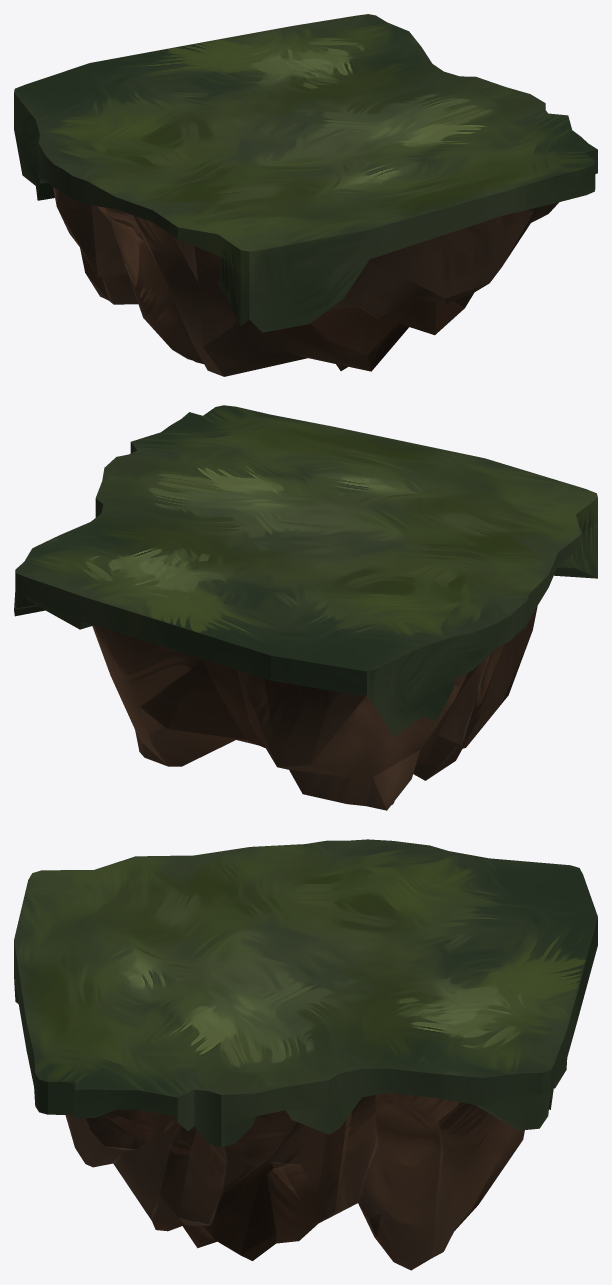
File: wyspa_mala_2.obj
3 renders of one model, top to bottom at view 1: azimuth 30°, elevation 25°; view 2: azimuth 150°, elevation 25°; view 3: azimuth 270°, elevation 25°, orthographic. The views are drawn at different scales.
Parts seen in each view (by area): view 1: Landscape.011; view 2: Landscape.011; view 3: Landscape.011.
Boxes of the visible parts, x1=… form: Landscape.011: x1=14, y1=14, x2=597, y2=376; Landscape.011: x1=14, y1=405, x2=597, y2=810; Landscape.011: x1=14, y1=839, x2=597, y2=1270.
Size of the model in its own units: 28.08 by 14.2 by 26.84.
2 materials, 2 textured.
